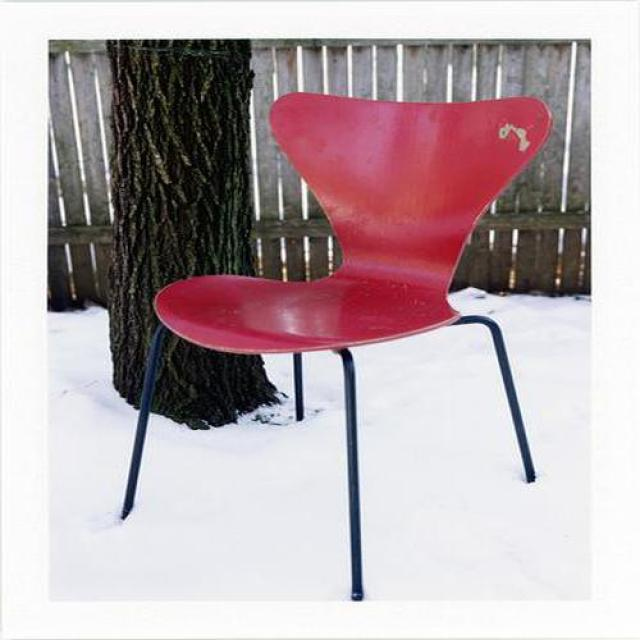chair: (152, 92, 556, 603)
